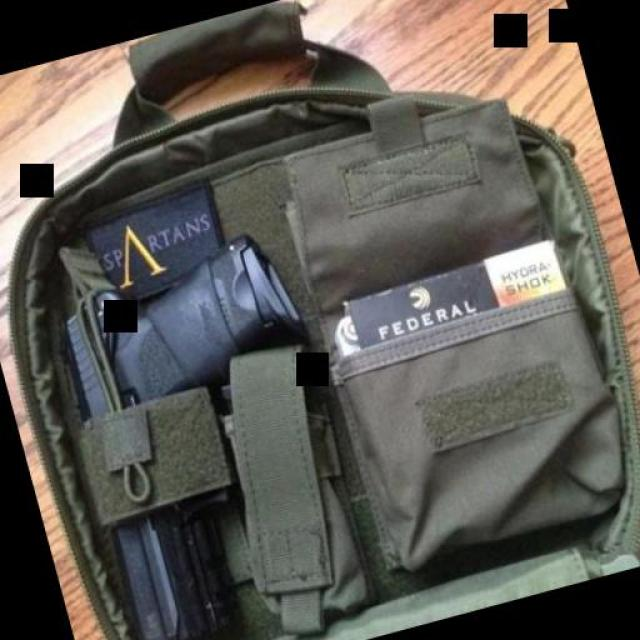gun: (36, 225, 370, 640)
